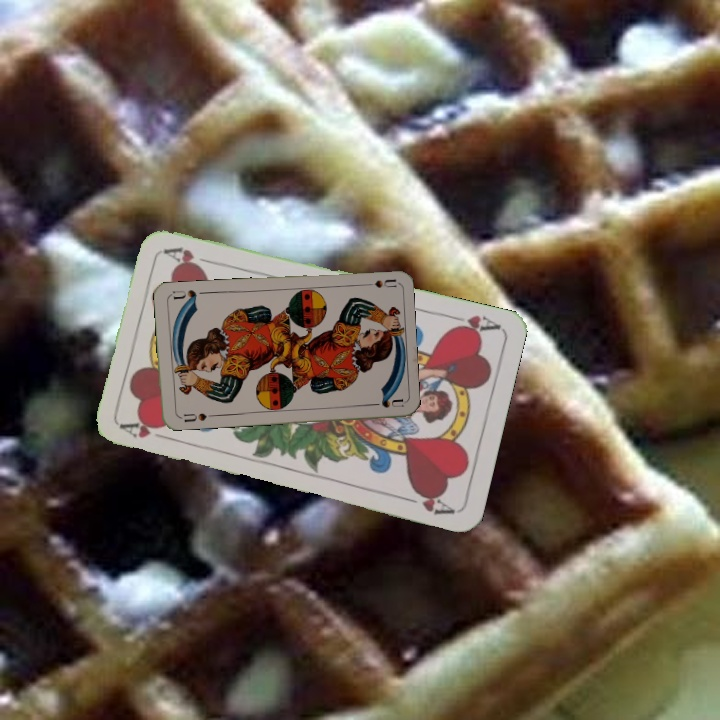HA: (443, 310, 502, 338), (118, 418, 176, 443)
SU: (356, 275, 397, 290), (175, 409, 209, 424)
